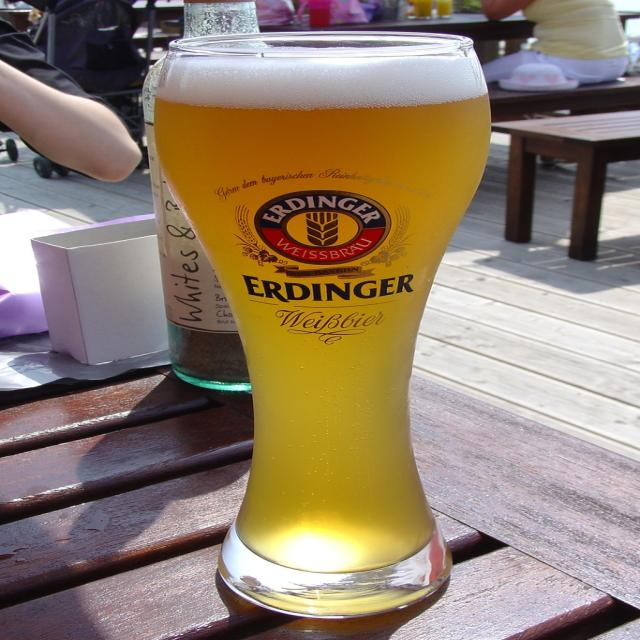erdinger: (214, 166, 441, 311)
